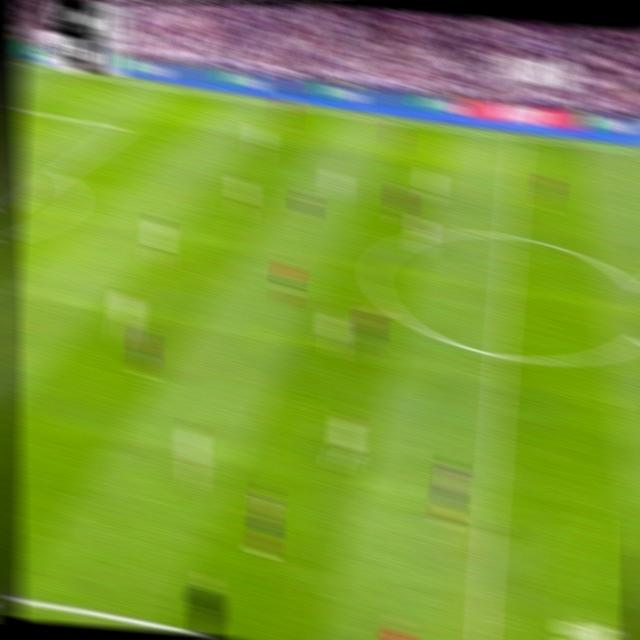bigarea_top_inner: (114, 118, 131, 135)
corner: (16, 57, 36, 71)
halfcircle_bottom: (489, 339, 513, 368)
halfcircle_top: (498, 222, 522, 249)
midline_top_intersection: (509, 130, 526, 146)
top_arc_area_intersection: (52, 162, 70, 181)
